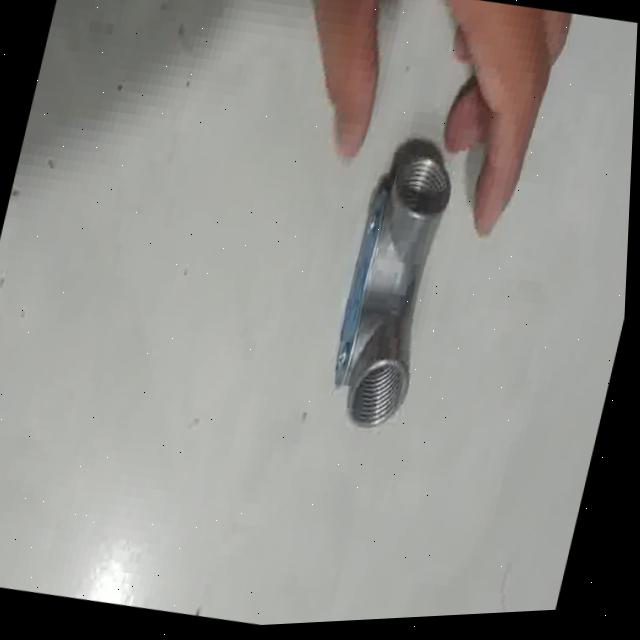Dry: (323, 154, 465, 443)
